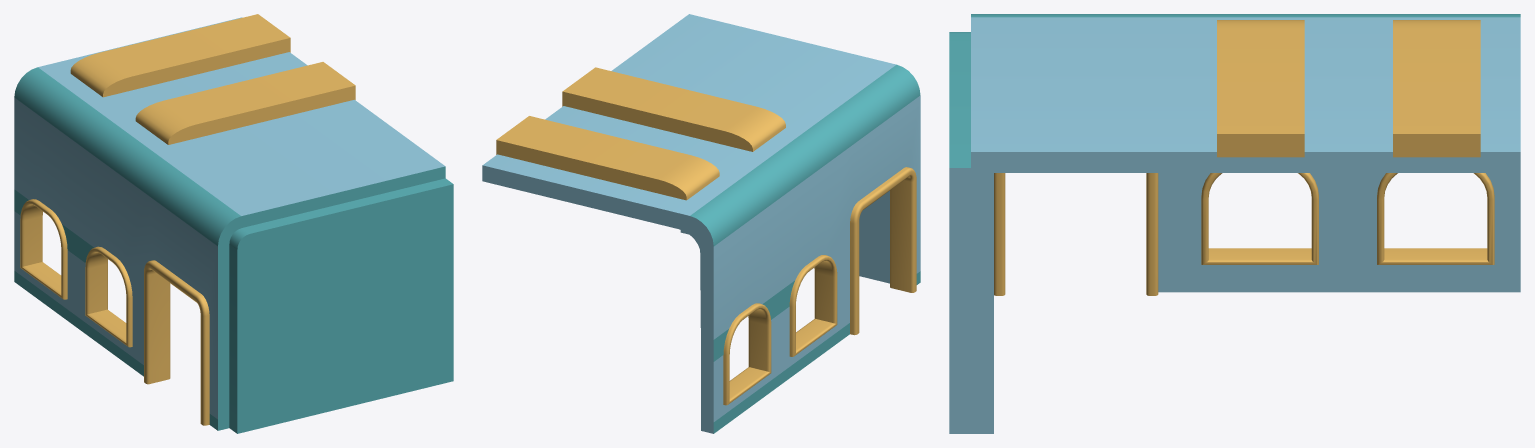
File: techo_2.fbx
The picture shows the model from 3 angles, left to right: view 1: azimuth 30°, elevation 25°; view 2: azimuth 150°, elevation 25°; view 3: azimuth 270°, elevation 25°; orthographic projection. The views are drawn at different scales.
Parts seen in each view (by area): view 1: Cylinder.001; view 2: Cylinder.001; view 3: Cylinder.001.
Part boxes in pixels (x1,y1,x2,y2): Cylinder.001: (14,14,453,433); Cylinder.001: (482,14,920,433); Cylinder.001: (949,14,1520,433).
Bounding box in the file's own units: 832 × 755 × 1300.
